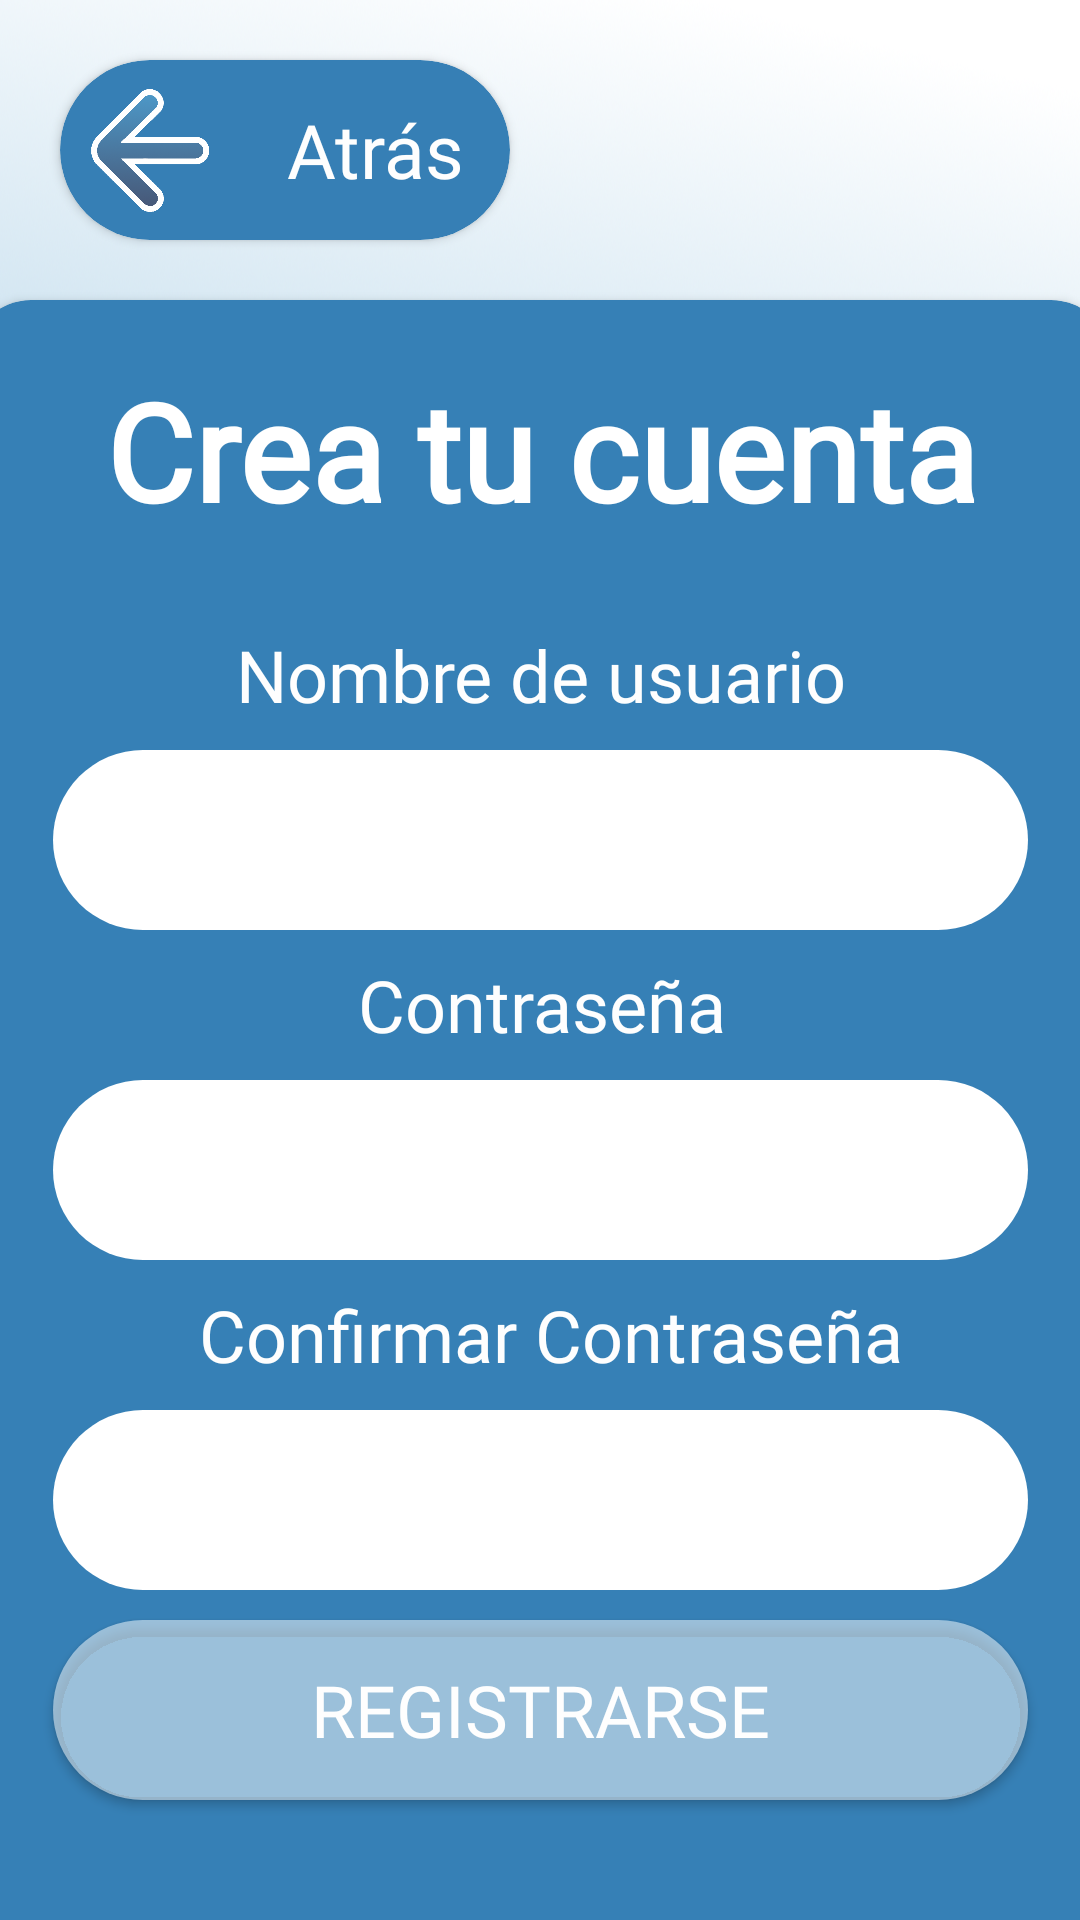

Icon click points for this 1080w x 1920h phone screenshot, format point (x, y):
atras: point (150, 150)
